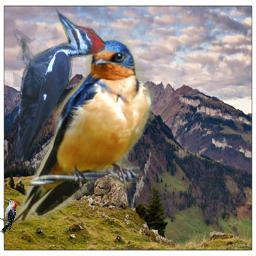Swallow: (11, 38, 154, 224)
Woodpecker: (13, 6, 105, 168), (0, 198, 17, 234)
